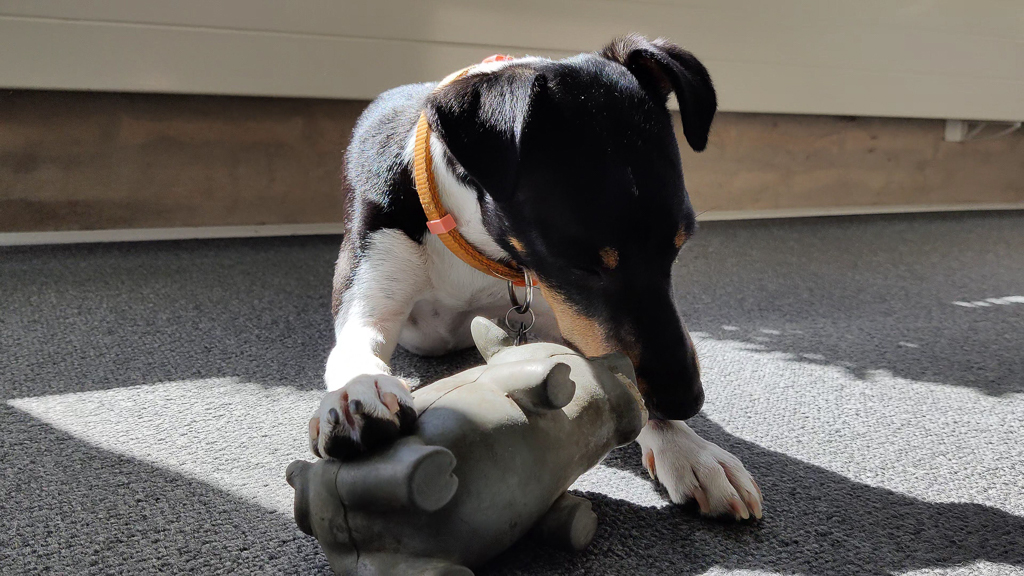Dog: (283, 9, 770, 538)
